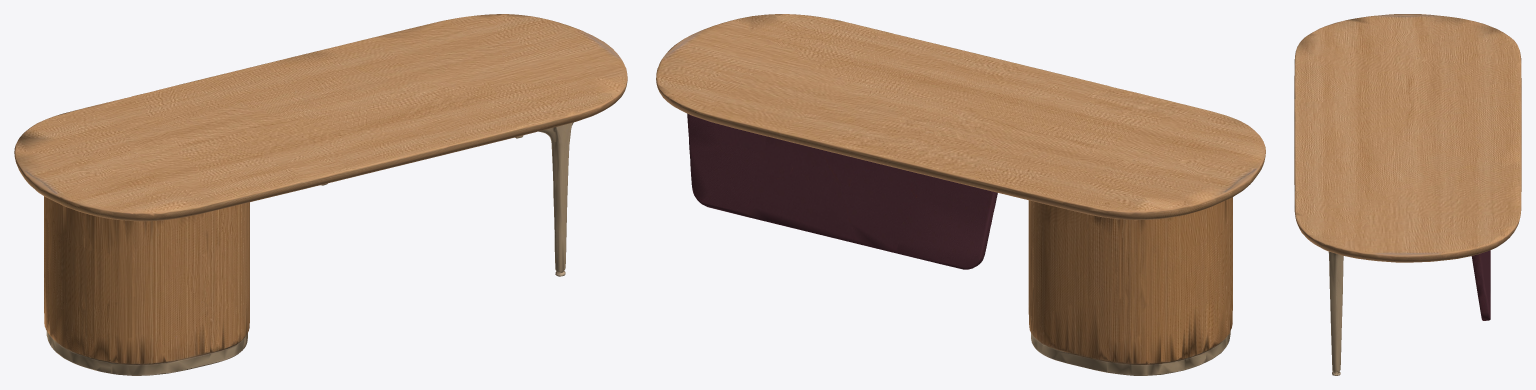
Rendered from desk-v1.glb.
3 renders of one model, left to right at view 1: azimuth 30°, elevation 25°; view 2: azimuth 150°, elevation 25°; view 3: azimuth 270°, elevation 25°, orthographic. The views are drawn at different scales.
Size of the model in its own units: 1.9 by 0.5718 by 0.7504.
Materials: 1 (1 with a texture image).
